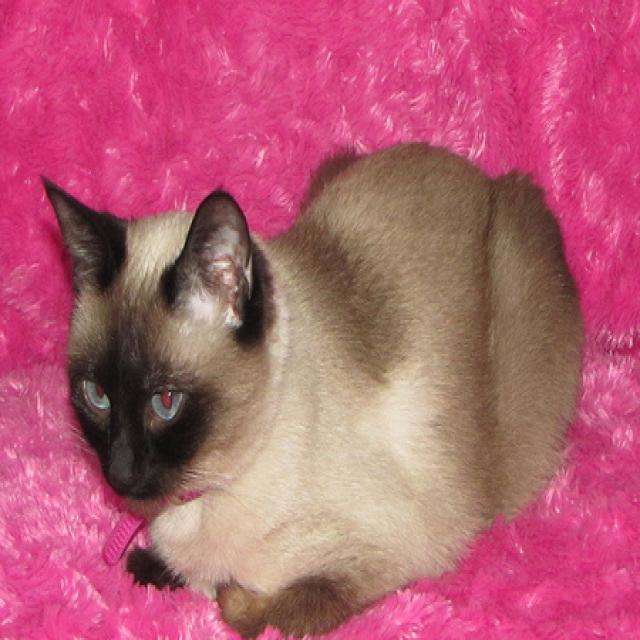Siamese: (35, 134, 588, 640)
